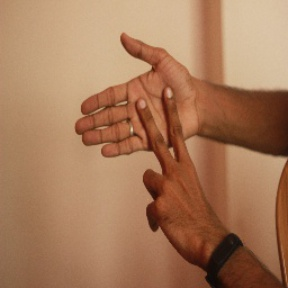N: (70, 32, 213, 205)
